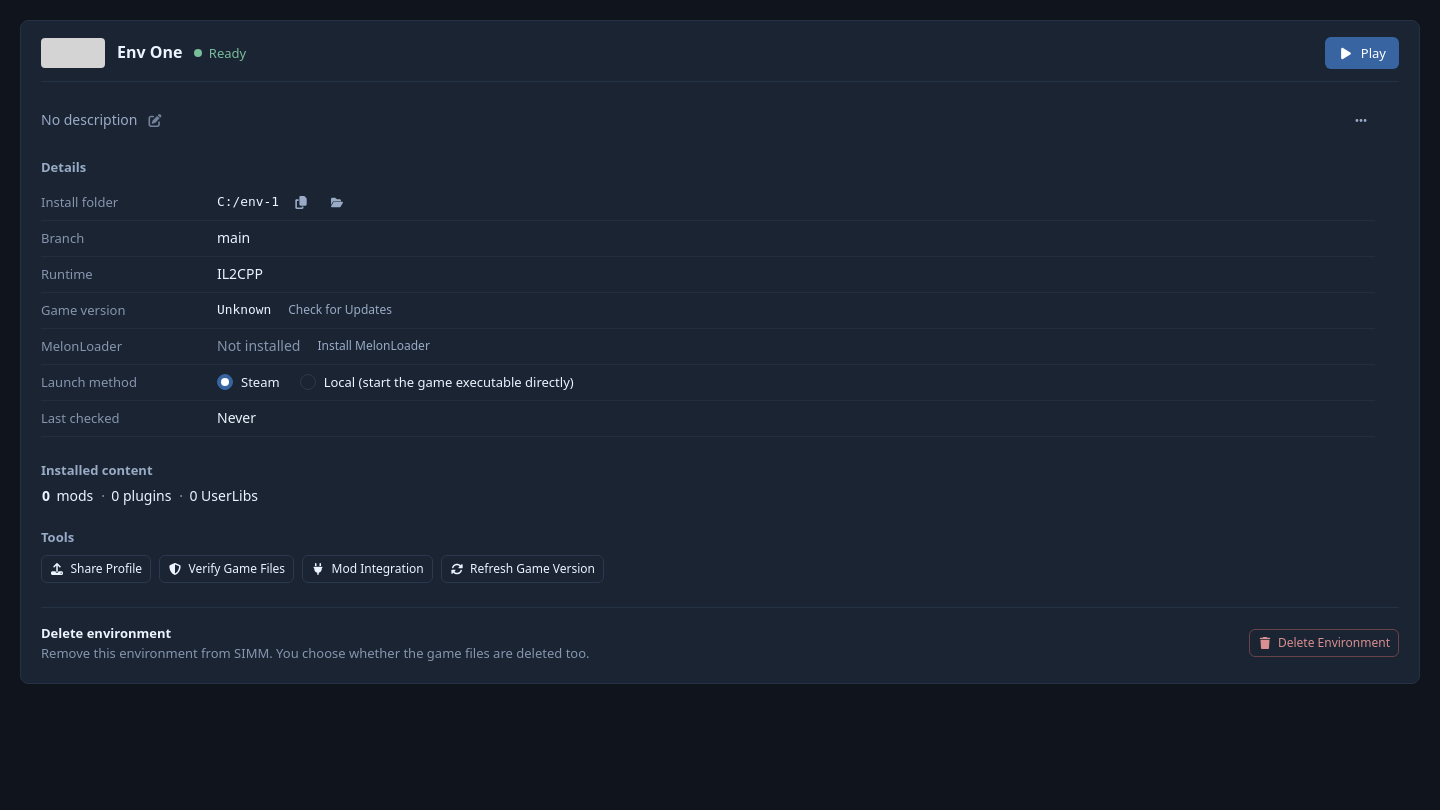
Test: EnvironmentList › opens per-install mod integration settings from the Tools row
Click the button "Mod Integration". click: (367, 568)
box: [302,554,433,582]
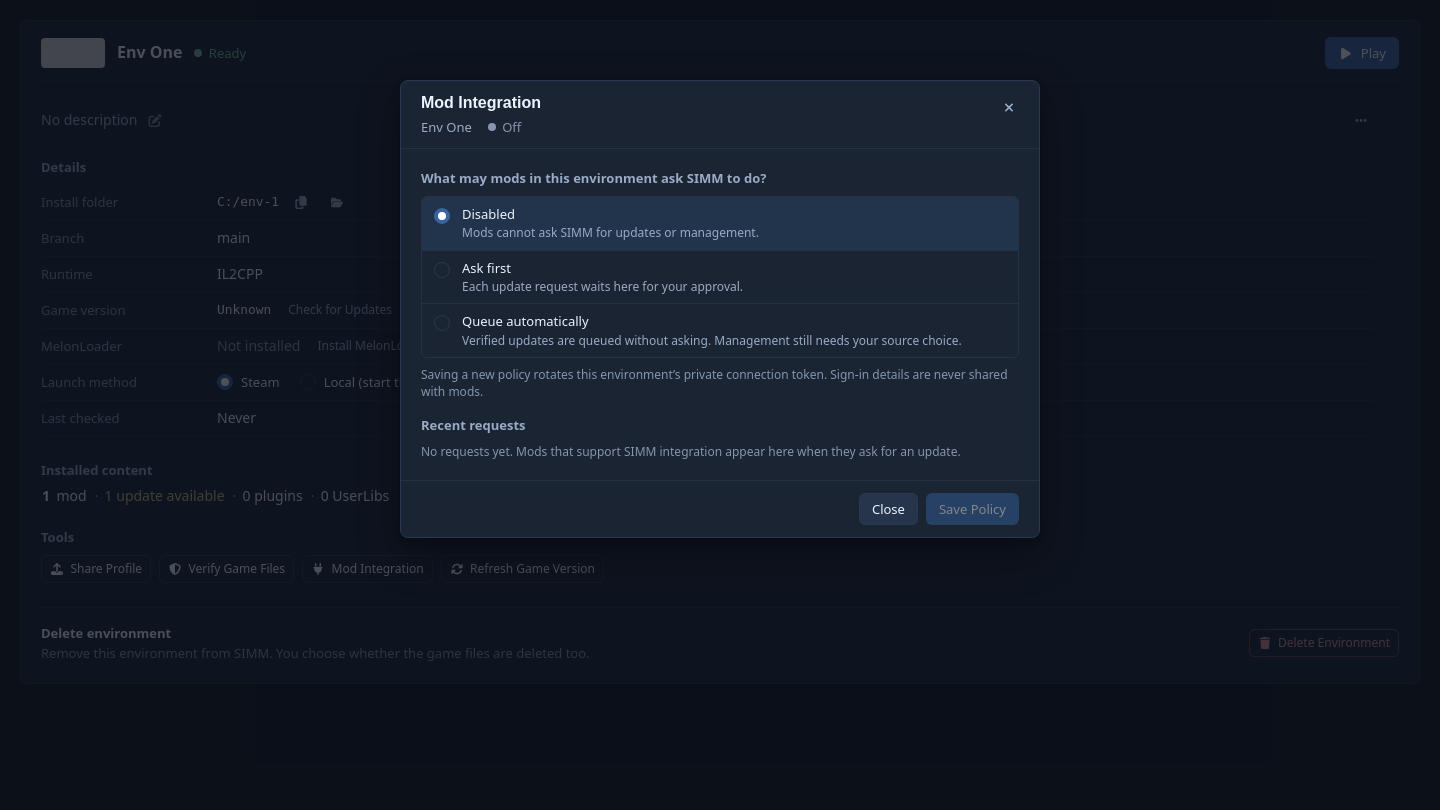
Result: the heading "Mod Integration" is shown at [421,93,541,114]
